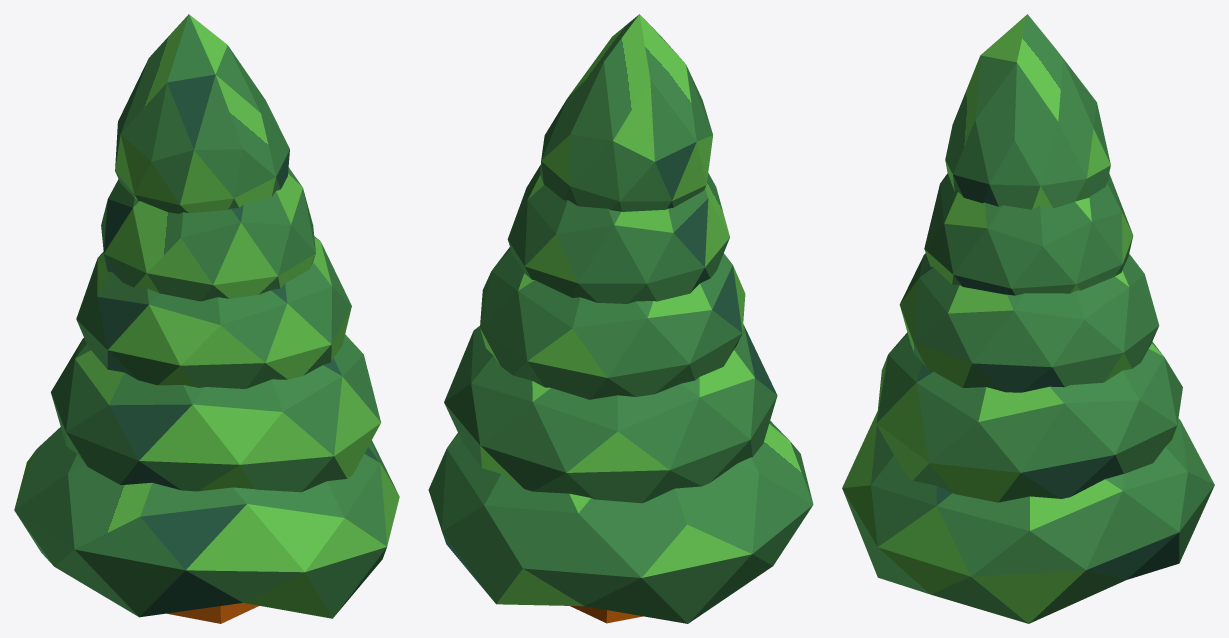
File: Tree_05_1.fbx
The picture shows the model from 3 angles, left to right: view 1: azimuth 30°, elevation 25°; view 2: azimuth 150°, elevation 25°; view 3: azimuth 270°, elevation 25°; orthographic projection. The views are drawn at different scales.
Visible parts, largest first — view 1: Tree_05 top, Tree_05 trunk; view 2: Tree_05 top, Tree_05 trunk; view 3: Tree_05 top.
Boxes of the visible parts, bbox=[...] form: Tree_05 top: bbox=[14, 14, 399, 618]; Tree_05 trunk: bbox=[167, 603, 259, 623]; Tree_05 top: bbox=[428, 14, 813, 623]; Tree_05 trunk: bbox=[570, 606, 642, 623]; Tree_05 top: bbox=[842, 14, 1214, 623].
Size of the model in its own units: 342 by 591 by 358.
